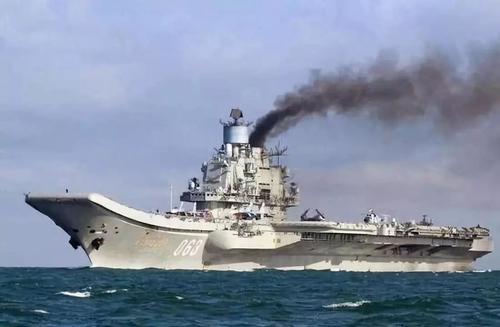smoke: (252, 41, 500, 146)
